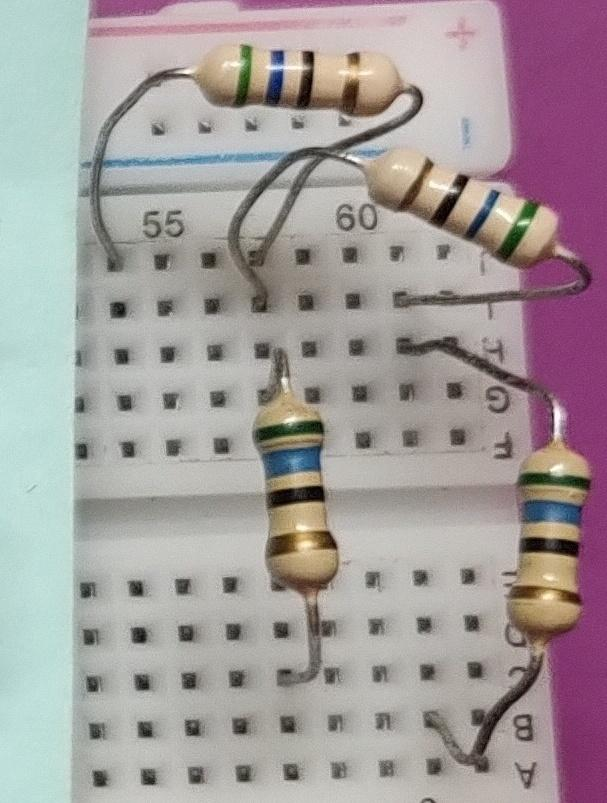resistor: (354, 142, 566, 276), (242, 390, 367, 613), (497, 427, 604, 661), (175, 32, 413, 125)
